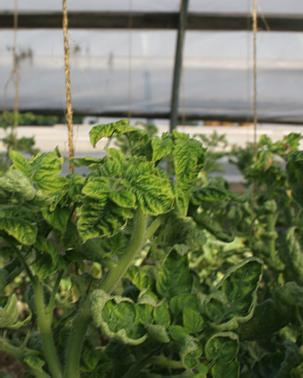Tomato leaf yellow virus: (5, 141, 71, 217), (201, 255, 265, 326), (78, 289, 157, 344), (97, 161, 173, 215), (0, 209, 43, 245)
